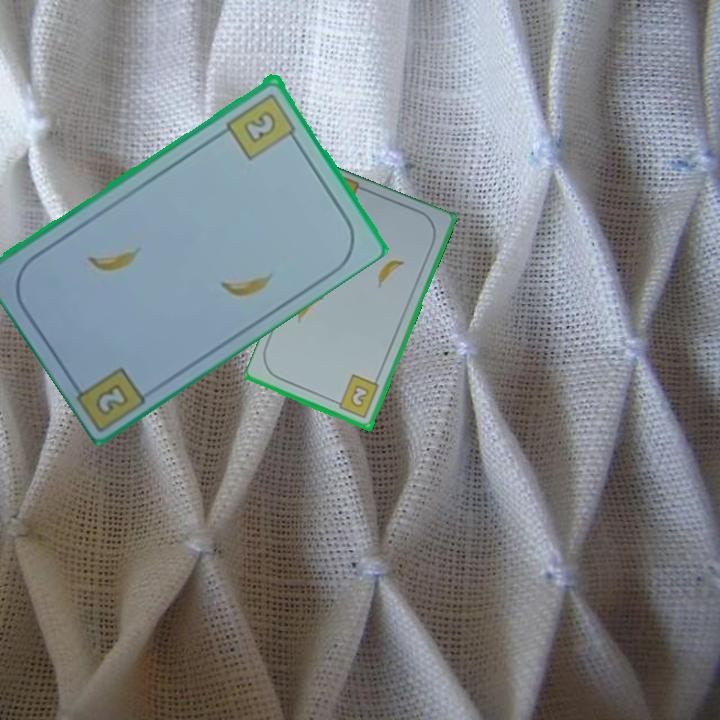2b: (223, 89, 301, 162), (330, 372, 382, 422), (95, 383, 128, 415)
